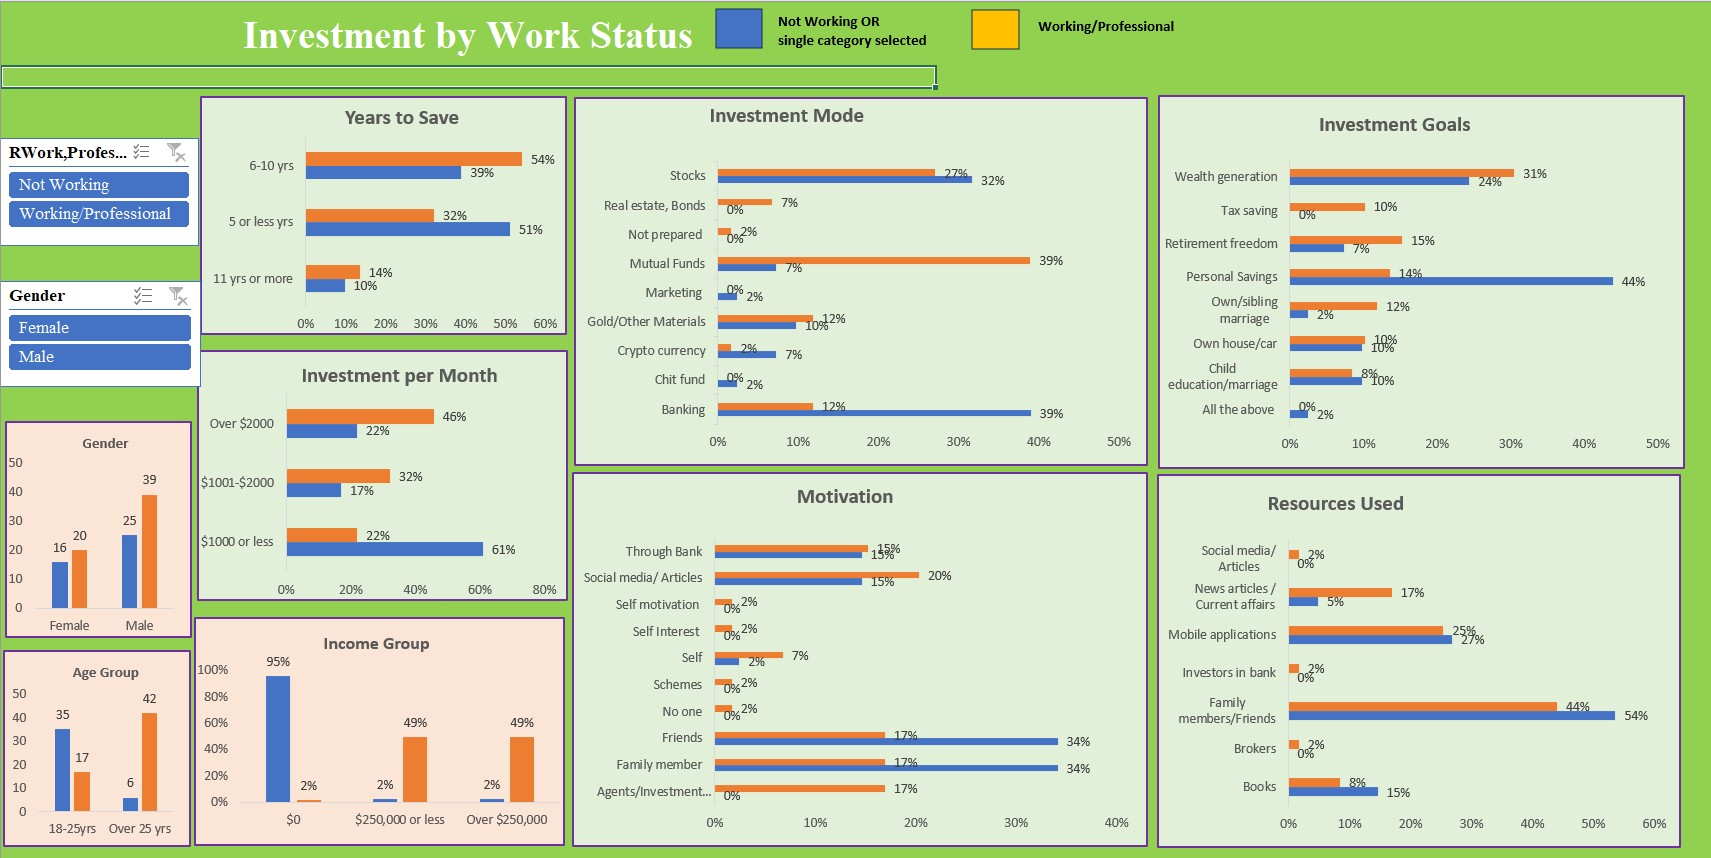

The dashboard page shown, as its layout file describes it:
{"tool":"powerbi","page":{"name":"Investments","canvas":[1280,720],"ordinal":1},"visuals":[{"type":"clusteredColumnChart","title":"Investment Goals","fields":{"Category":["GenderSummary.Goal_for_investment"],"Y":["CountNonNull(InvestmentSurveycsv.Goal_for_investment)"]},"box":[848,96,432,224],"z":0},{"type":"funnel","title":"Investment Mode","fields":{"Category":["GenderSummary.Mode_of_investment"],"Y":["CountNonNull(InvestmentSurveycsv.Mode_of_investment)"]},"box":[848,320,432,224],"z":1000},{"type":"clusteredBarChart","title":"Motivated by...","fields":{"Category":["GenderSummary.Motivation_cause"],"Y":["CountNonNull(InvestmentSurveycsv.Motivation_cause)"]},"box":[464,464,384,256],"z":2000},{"type":"actionButton","box":[0,0,100,40],"z":3000},{"type":"clusteredColumnChart","title":"Resources Used","fields":{"Category":["InvestmentSurveycsv.Resources_used"],"Y":["CountNonNull(InvestmentSurveycsv.Resources_used)"]},"box":[464,96,384,368],"z":4000},{"type":"slicer","title":"Working/Not Working","fields":{"Values":["InvestmentSurveycsv.Working_professional"]},"box":[0,272,112,128],"z":5000},{"type":"slicer","title":"Gender","fields":{"Values":["GenderSummary1.Gender (groups)"]},"box":[0,160,112,112],"z":6000},{"type":"clusteredColumnChart","title":"Annual Income","fields":{"Category":["InvestmentSurveycsv.Income Quartile Label"],"Y":["CountNonNull(InvestmentSurveycsv.Income Quartile Label)"]},"box":[112,96,352,320],"z":7000},{"type":"clusteredColumnChart","title":"Investment per Month","fields":{"Category":["InvestmentSurveycsv.Investment_Quartile"],"Y":["CountNonNull(InvestmentSurveycsv.Investment_Quartile)"]},"box":[112,416,352,304],"z":8000},{"type":"textbox","box":[432,0,552,72],"z":9000},{"type":"pageNavigator","box":[0,40,456,32],"z":10000},{"type":"textbox","box":[0,72,184,32],"z":11000},{"type":"textbox","box":[160,440,112,48],"z":12000},{"type":"textbox","box":[352,120,112,48],"z":13000},{"type":"clusteredBarChart","title":"Years to Save","fields":{"Category":["InvestmentSurveycsv.Years_to_Save_QuartileLabel"],"Y":["CountNonNull(InvestmentSurveycsv.Years_to_Save_QuartileLabel)"]},"box":[848,544,432,160],"z":14000}]}

Visuals, with their boxes on the page's 1280x720 design canvas (x1, y1, x2, y2). These are canvas units, not pixel positions in the 1711x858 screenshot, which may show the page scaled, cropped or inside an application window:
"Investment Goals" clusteredColumnChart: 848, 96, 1280, 320
"Investment Mode" funnel: 848, 320, 1280, 544
"Motivated by..." clusteredBarChart: 464, 464, 848, 720
actionButton: 0, 0, 100, 40
"Resources Used" clusteredColumnChart: 464, 96, 848, 464
"Working/Not Working" slicer: 0, 272, 112, 400
"Gender" slicer: 0, 160, 112, 272
"Annual Income" clusteredColumnChart: 112, 96, 464, 416
"Investment per Month" clusteredColumnChart: 112, 416, 464, 720
textbox: 432, 0, 984, 72
pageNavigator: 0, 40, 456, 72
textbox: 0, 72, 184, 104
textbox: 160, 440, 272, 488
textbox: 352, 120, 464, 168
"Years to Save" clusteredBarChart: 848, 544, 1280, 704
